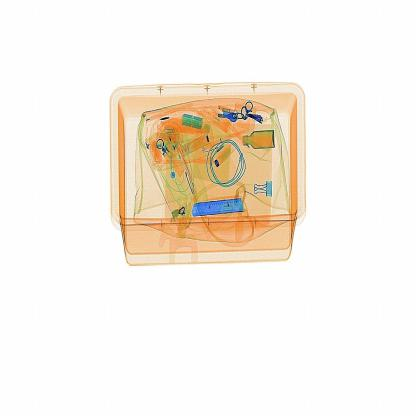pliers: (182, 191, 264, 228)
